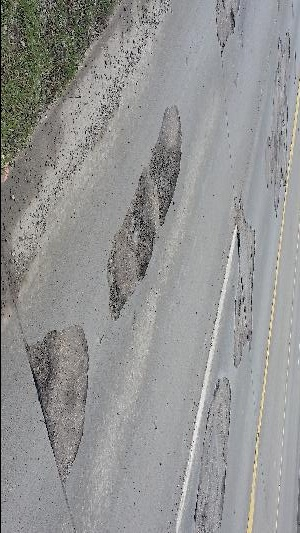pothole: (131, 177, 154, 281), (154, 145, 184, 224), (28, 336, 54, 398)
